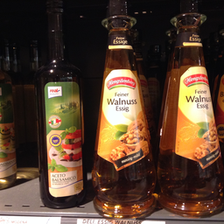vinegar: (93, 7, 158, 218), (161, 9, 224, 215), (30, 30, 91, 210)
